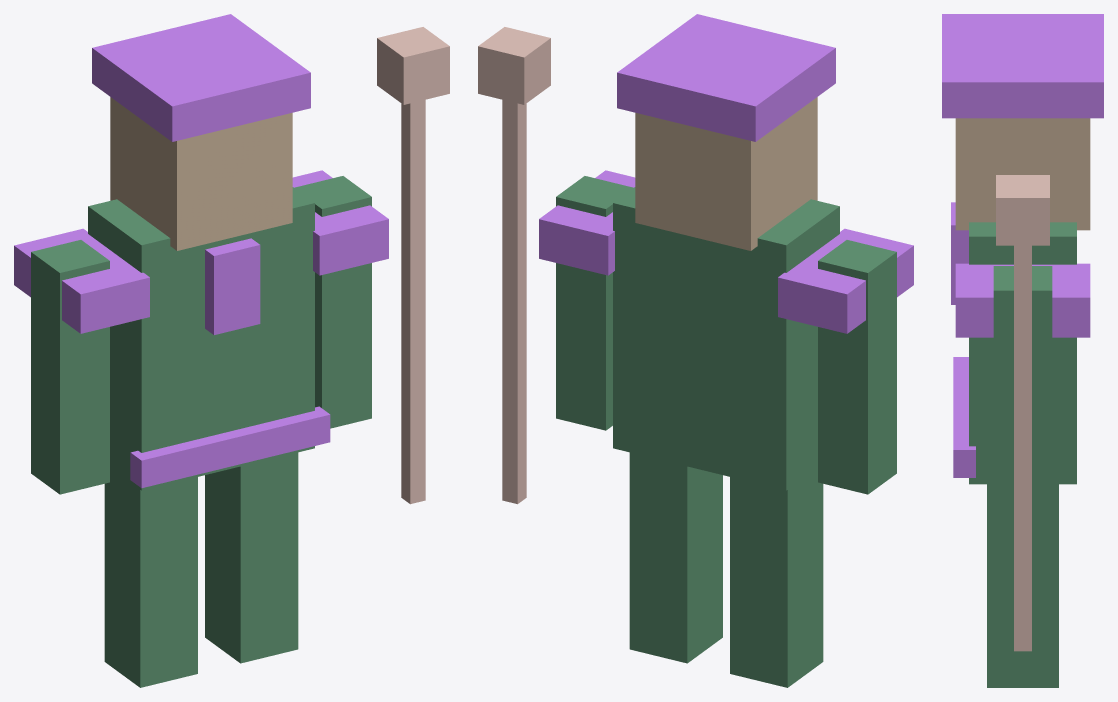
The model's file is 03_juno_holloway_mechanist_under.glb.
The picture shows the model from 3 angles, left to right: view 1: azimuth 30°, elevation 25°; view 2: azimuth 150°, elevation 25°; view 3: azimuth 270°, elevation 25°; orthographic projection.
Parts seen in each view (by area): view 1: Juno Holloway, Mechanist under; view 2: Juno Holloway, Mechanist under; view 3: Juno Holloway, Mechanist under.
Boxes of the visible parts, x1,y1,x2,y2 form: Juno Holloway, Mechanist under: [14, 14, 449, 687]; Juno Holloway, Mechanist under: [478, 14, 913, 687]; Juno Holloway, Mechanist under: [942, 14, 1103, 687].
Bounding box in the file's own units: 0.984 × 1.43 × 0.349.
